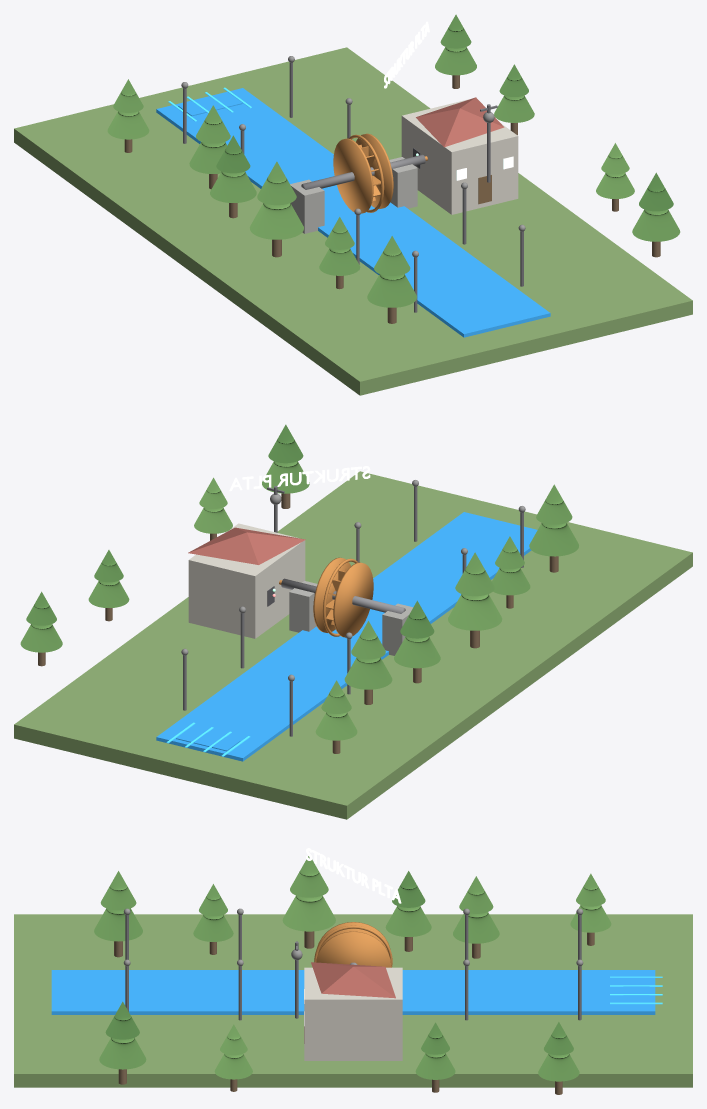
The model's file is PLTAAA.glb.
3 renders of one model, top to bottom at view 1: azimuth 30°, elevation 25°; view 2: azimuth 150°, elevation 25°; view 3: azimuth 270°, elevation 25°, orthographic.
Parts seen in each view (by area): view 1: Struktur_PLTA, Turbin, Label_STRUKTUR_PLTA; view 2: Struktur_PLTA, Turbin, Label_STRUKTUR_PLTA; view 3: Struktur_PLTA, Turbin, Label_STRUKTUR_PLTA.
Part boxes in pixels (box(x1,y1,x2,y2)): Struktur_PLTA: box(14, 14, 692, 395); Turbin: box(301, 133, 425, 213); Label_STRUKTUR_PLTA: box(384, 21, 429, 88); Struktur_PLTA: box(14, 424, 692, 819); Turbin: box(281, 557, 405, 637); Label_STRUKTUR_PLTA: box(229, 466, 370, 491); Struktur_PLTA: box(14, 856, 692, 1094); Turbin: box(314, 922, 392, 967); Label_STRUKTUR_PLTA: box(306, 848, 401, 903).
Size of what is drawn, in the model's own units: 11.77 by 4.8 by 18.
